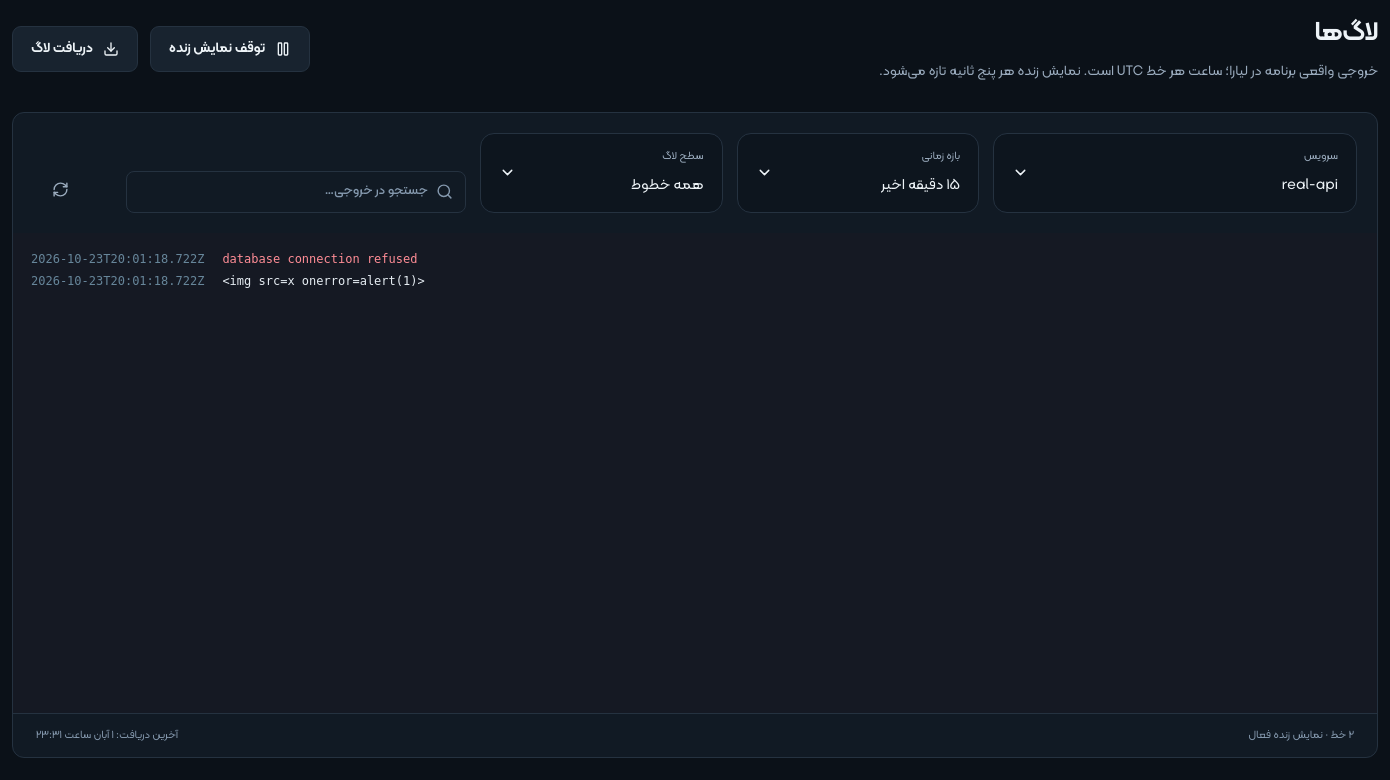
Test: renders actual logs safely and filters by search
This screenshot has width=1390, height=780.
Expected: the text "database connection refused" is shown, [222,248,418,270]
Expected: the text "<img src=x onerror=alert(1)>" is shown, [222,270,425,293]
Type "database" into the field named "جستجو در لاگ‌ها".
click(283, 192); type("database")  # box [139,180,428,204]
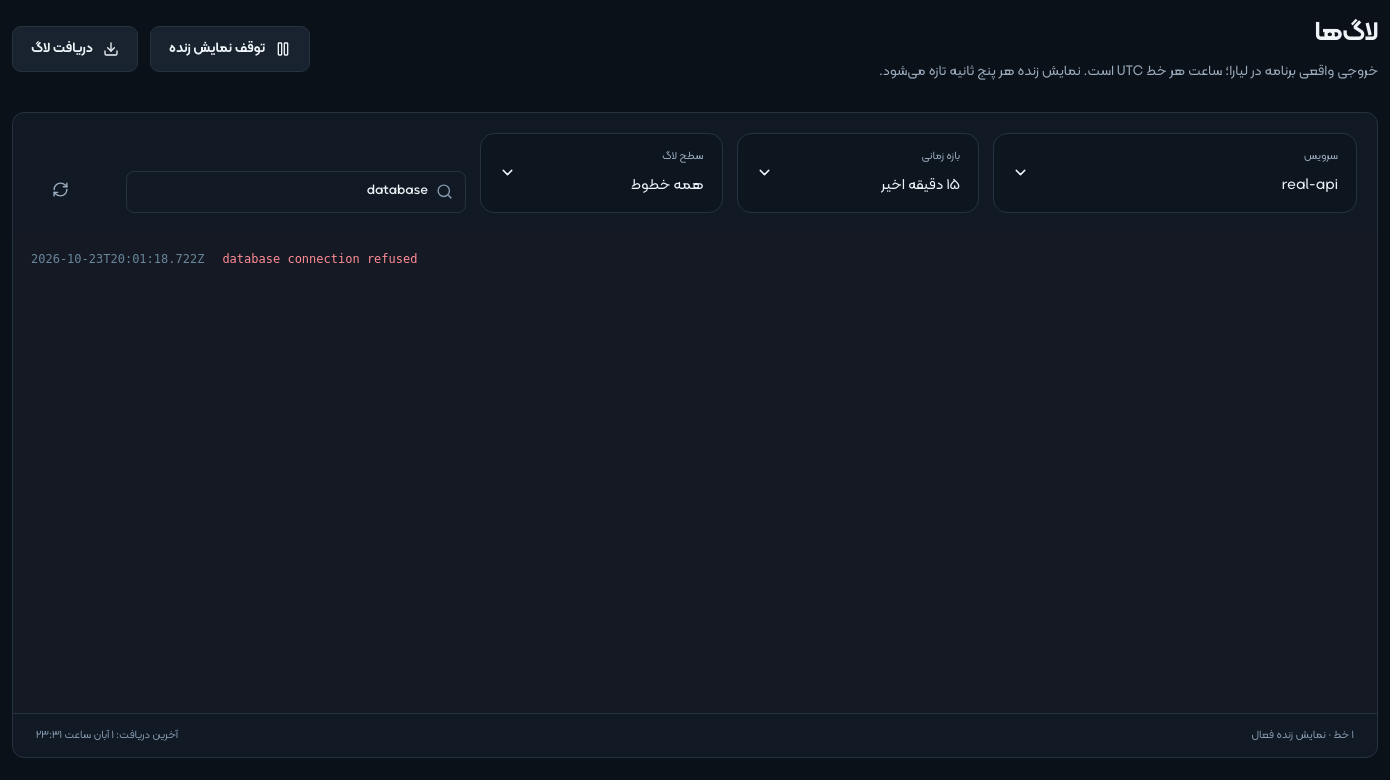
Now the text "<img src=x onerror=alert(1)>" is gone
Click the button "توقف نمایش زنده".
click(230, 49)  # box [150,26,310,72]
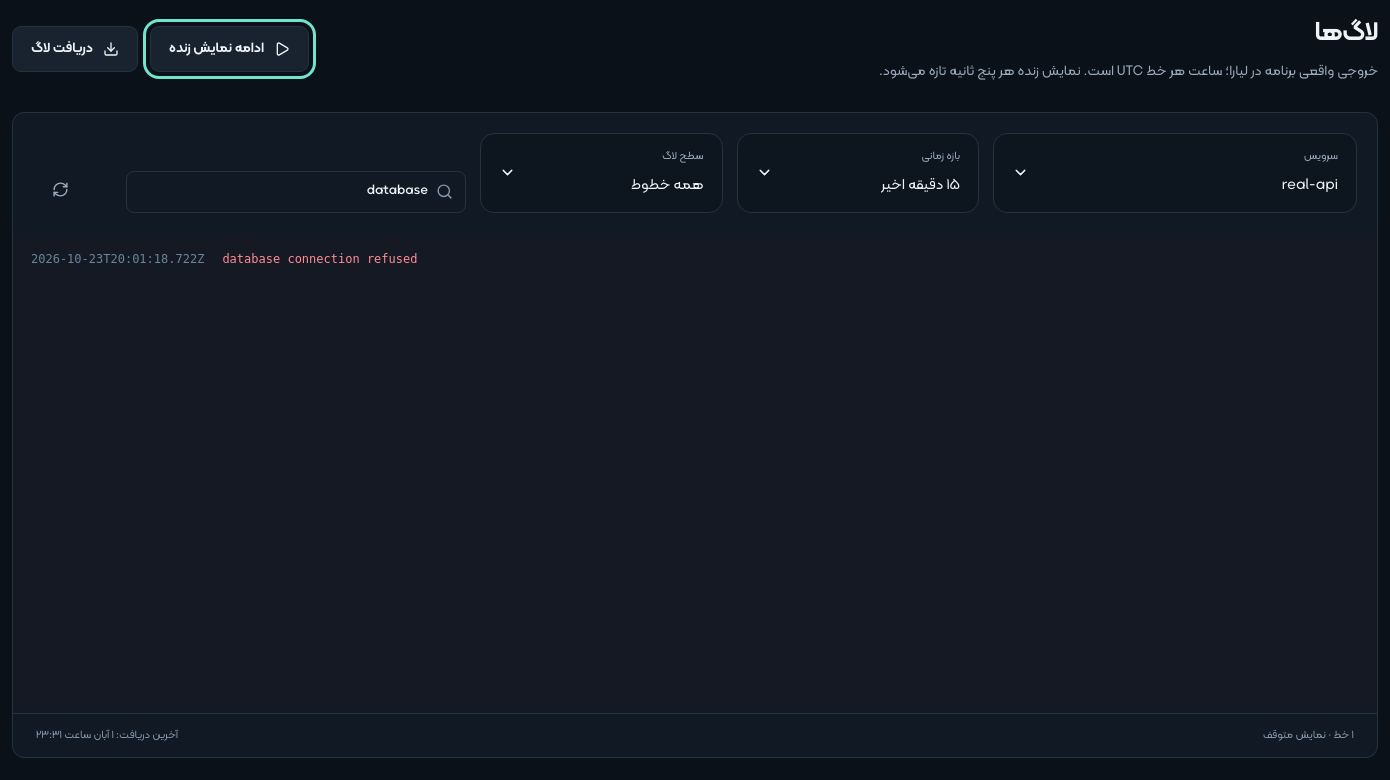
Now the button "ادامه نمایش زنده" is shown, box [150,26,309,72]
